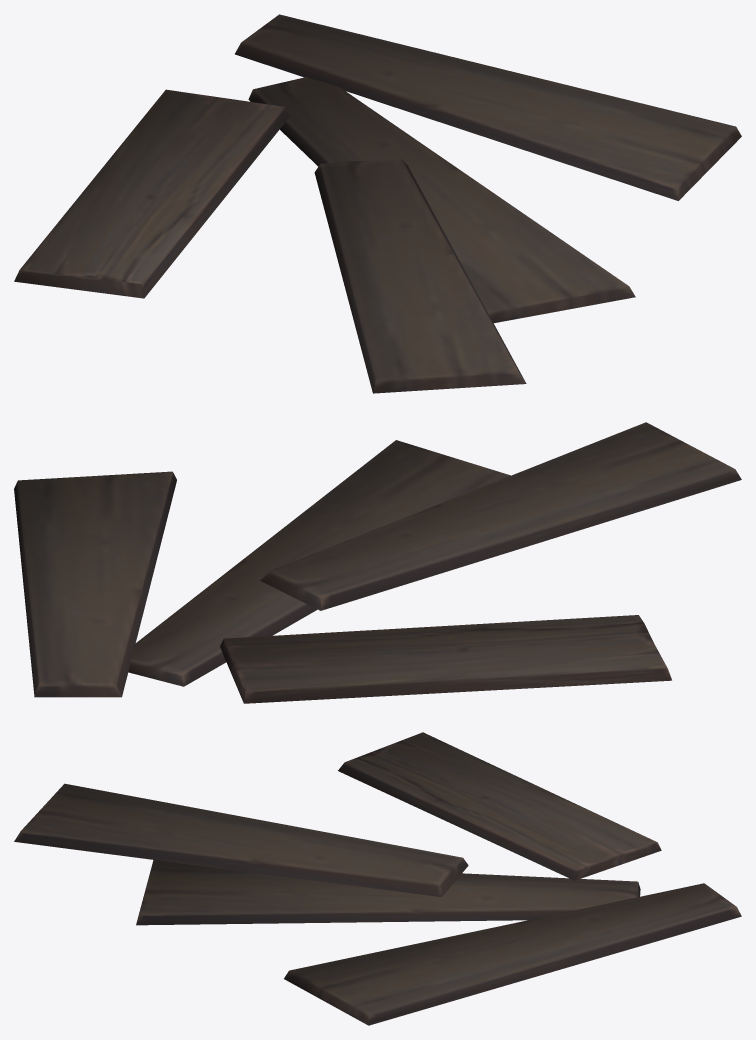
Rendered from Area_15_5.fbx.
The picture shows the model from 3 angles, top to bottom: view 1: azimuth 30°, elevation 25°; view 2: azimuth 150°, elevation 25°; view 3: azimuth 270°, elevation 25°; orthographic projection. The views are drawn at different scales.
Parts seen in each view (by area): view 1: Area_15_5; view 2: Area_15_5; view 3: Area_15_5.
Boxes of the visible parts, x1=… form: Area_15_5: x1=14, y1=14, x2=741, y2=393; Area_15_5: x1=14, y1=422, x2=741, y2=703; Area_15_5: x1=14, y1=732, x2=741, y2=1025.
Bounding box in the file's own units: 535 × 16.11 × 576.
